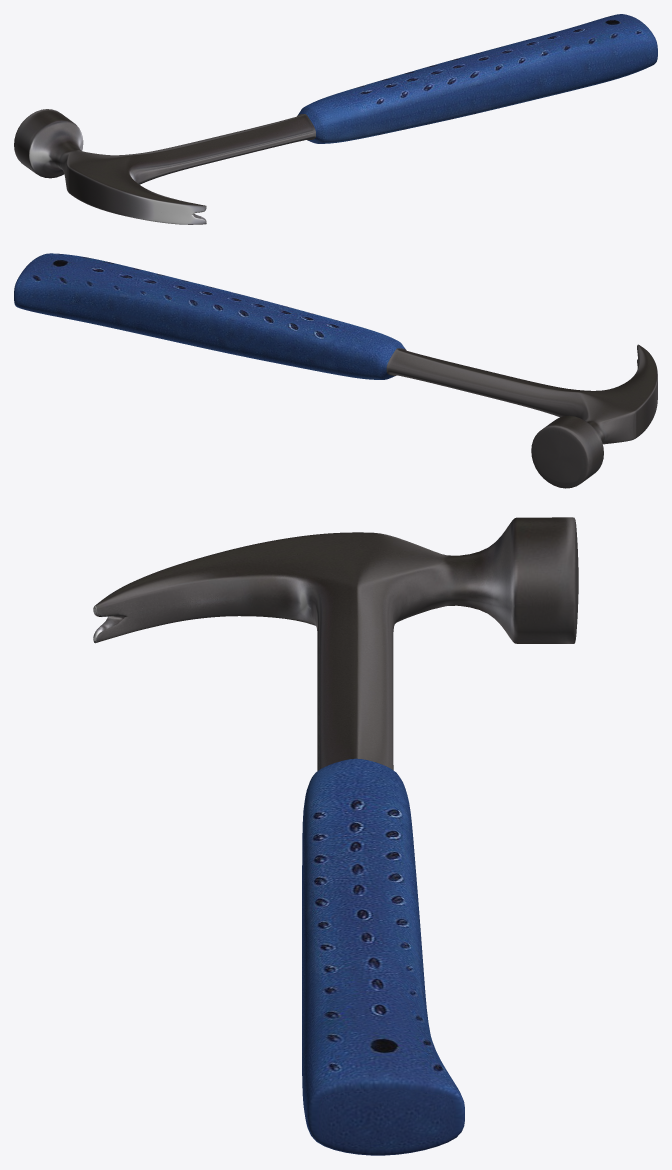
The model's file is 10293_Hammer_v1_iterations-2.obj.
3 views of the same model, one above another, from view 1: azimuth 30°, elevation 25°; view 2: azimuth 150°, elevation 25°; view 3: azimuth 270°, elevation 25° (orthographic). The views are drawn at different scales.
Visible parts, largest first — view 1: 10293_Hammer_v1_max8; view 2: 10293_Hammer_v1_max8; view 3: 10293_Hammer_v1_max8.
Boxes of the visible parts, box(x1,y1,x2,y2) form: 10293_Hammer_v1_max8: box(14, 14, 657, 224); 10293_Hammer_v1_max8: box(14, 253, 657, 488); 10293_Hammer_v1_max8: box(93, 517, 578, 1155).
Size of the model in its own units: 32.87 by 3.11 by 11.92.
Materials: 1 (1 with a texture image).
